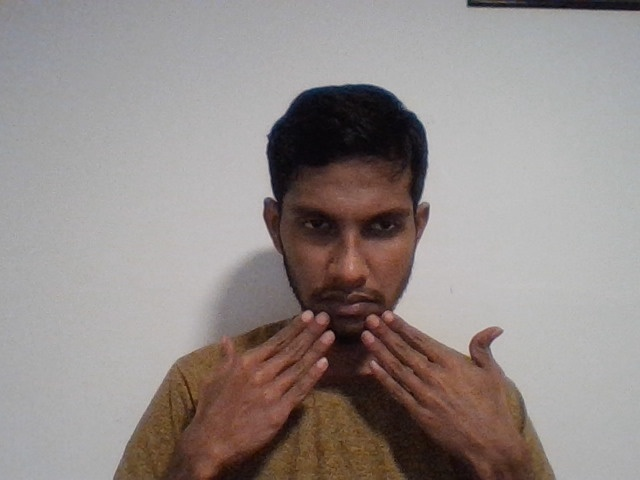thanks: (150, 299, 556, 462)
